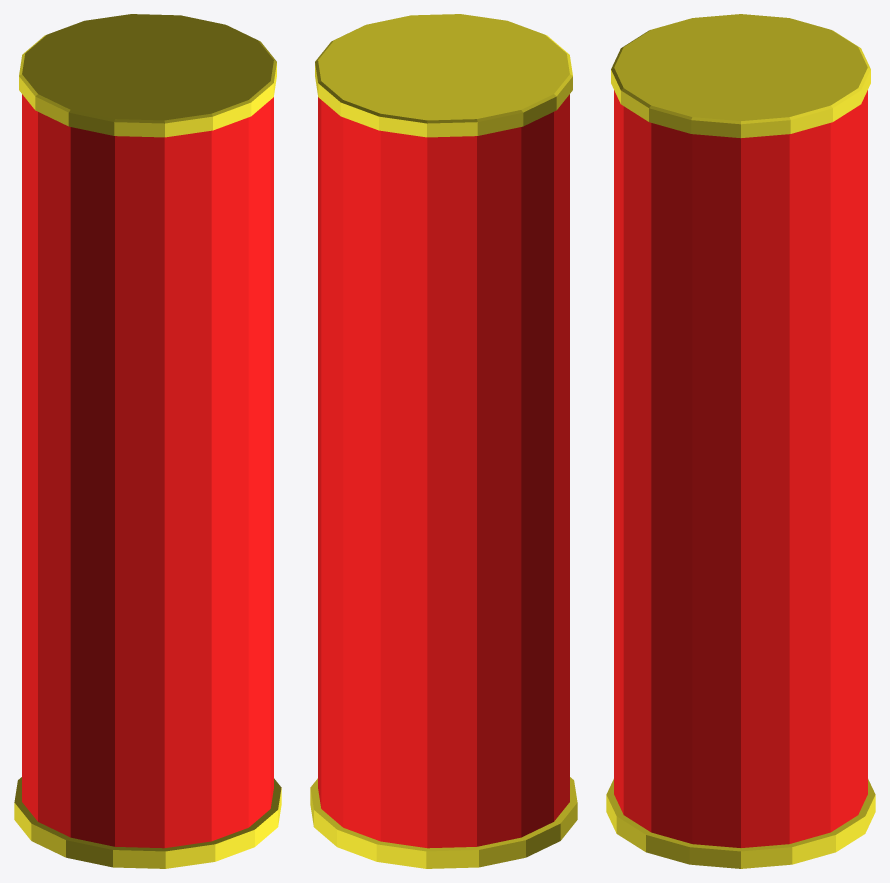
The model's file is Barbecue Chips.fbx.
3 views of the same model, side by side, from view 1: azimuth 30°, elevation 25°; view 2: azimuth 150°, elevation 25°; view 3: azimuth 270°, elevation 25° (orthographic).
Visible parts, largest first — view 1: Node 0; view 2: Node 0; view 3: Node 0.
Boxes of the visible parts, x1,y1,x2,y2 form: Node 0: (14,14,281,868); Node 0: (310,14,577,868); Node 0: (606,14,875,868).
Size of the model in its own units: 0.0901 by 0.2751 by 0.0901.
